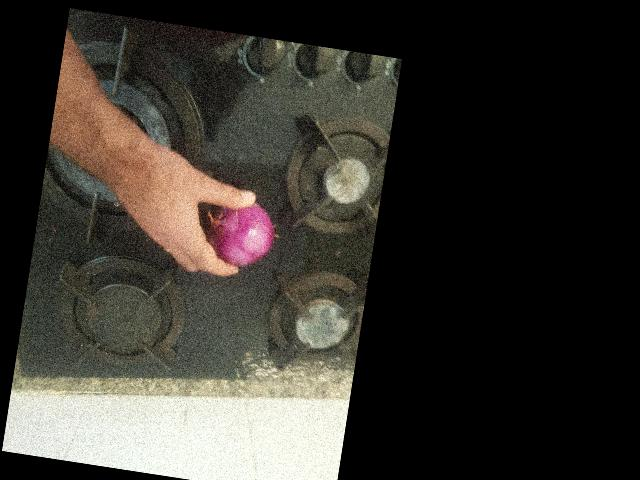onion: (240, 323, 298, 381)
